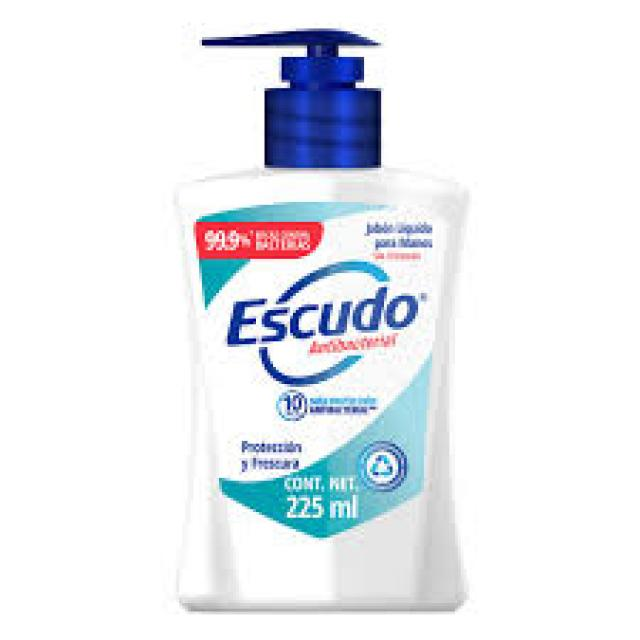Botella: (163, 8, 502, 620)
